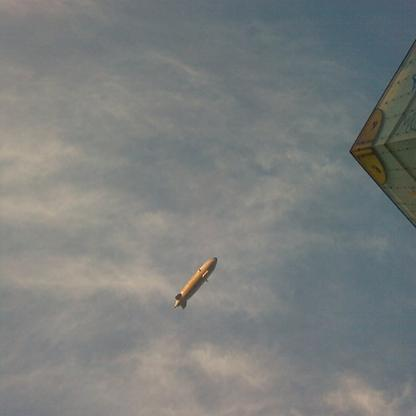Airship: (172, 249, 221, 314)
